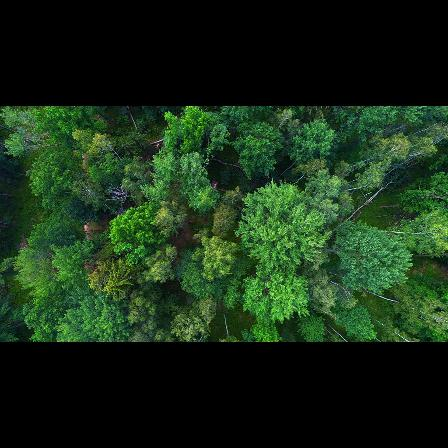Dead: (102, 185, 139, 206)
